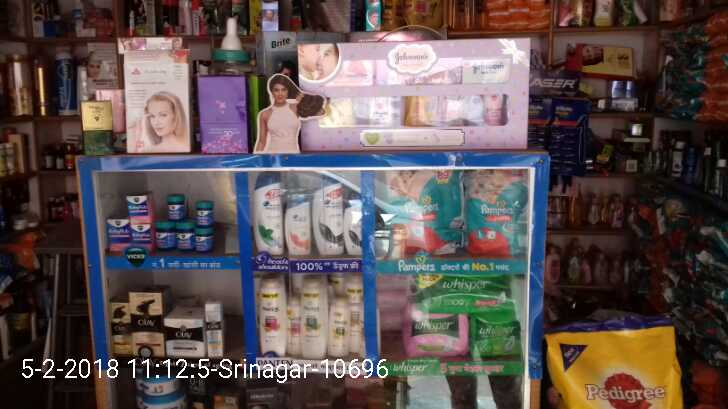beauty: (253, 169, 284, 254), (300, 278, 328, 358), (130, 292, 164, 356), (260, 281, 288, 356), (316, 182, 345, 254), (286, 192, 312, 256), (166, 319, 204, 355), (329, 300, 350, 358), (110, 300, 130, 356), (205, 302, 222, 356), (346, 199, 362, 256)
pharmacy: (386, 172, 465, 250), (465, 168, 527, 256), (413, 274, 521, 314), (470, 317, 521, 357), (408, 319, 466, 354), (54, 48, 75, 113), (121, 192, 154, 216), (105, 219, 130, 250), (129, 226, 154, 252), (194, 228, 216, 255), (195, 197, 214, 227), (167, 194, 186, 218), (175, 228, 194, 252), (156, 231, 171, 255)
